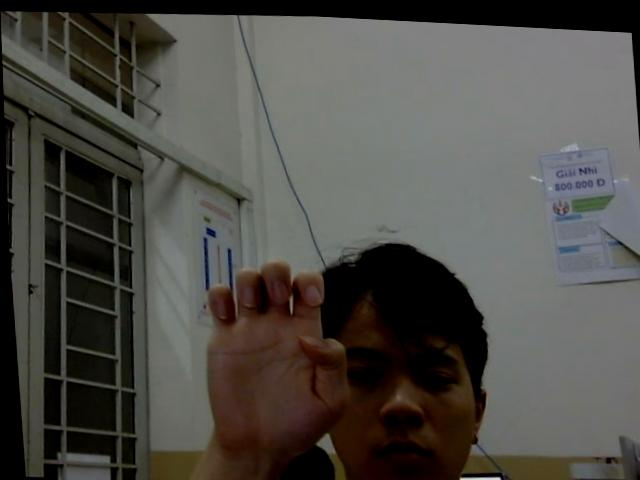E: (194, 248, 350, 454)
